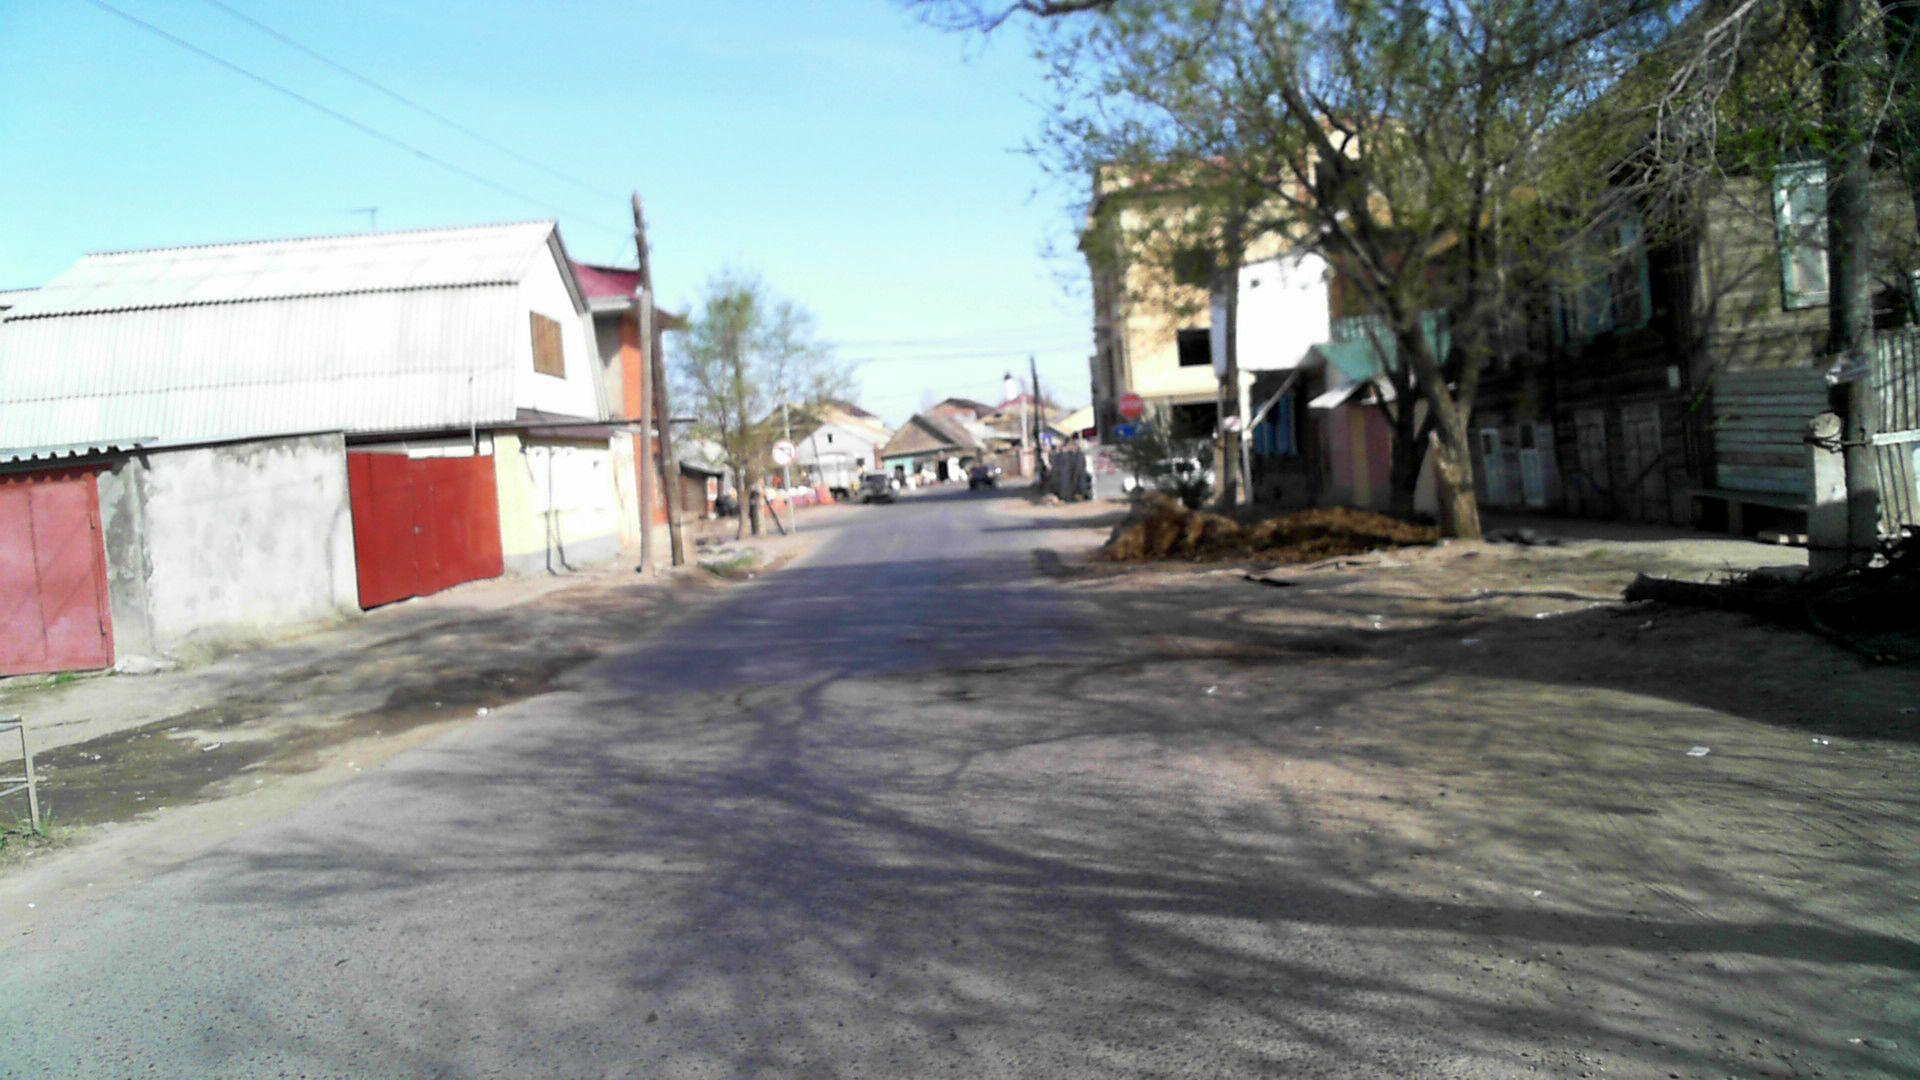2_5: (1115, 387, 1147, 422)
3_18_2: (769, 438, 797, 467)
5_6: (1040, 432, 1053, 447)
